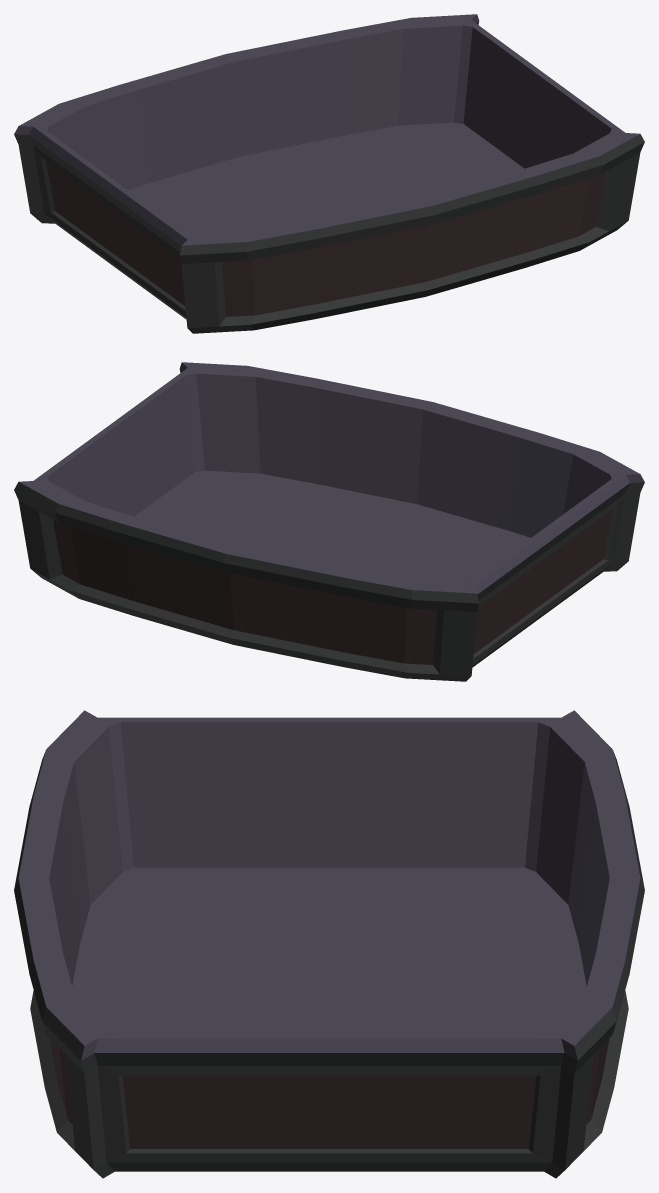
Rendered from Chest_Base_01.glb.
3 views of the same model, one above another, from view 1: azimuth 30°, elevation 25°; view 2: azimuth 150°, elevation 25°; view 3: azimuth 270°, elevation 25° (orthographic). The views are drawn at different scales.
Parts seen in each view (by area): view 1: Chest_Base_01; view 2: Chest_Base_01; view 3: Chest_Base_01.
Boxes of the visible parts, bbox=[...] form: Chest_Base_01: bbox=[14, 14, 644, 333]; Chest_Base_01: bbox=[14, 362, 644, 681]; Chest_Base_01: bbox=[14, 710, 644, 1178].
Size of what is drawn, in the model's own units: 1.4 by 0.2791 by 1.1.
1 material, 1 textured.
